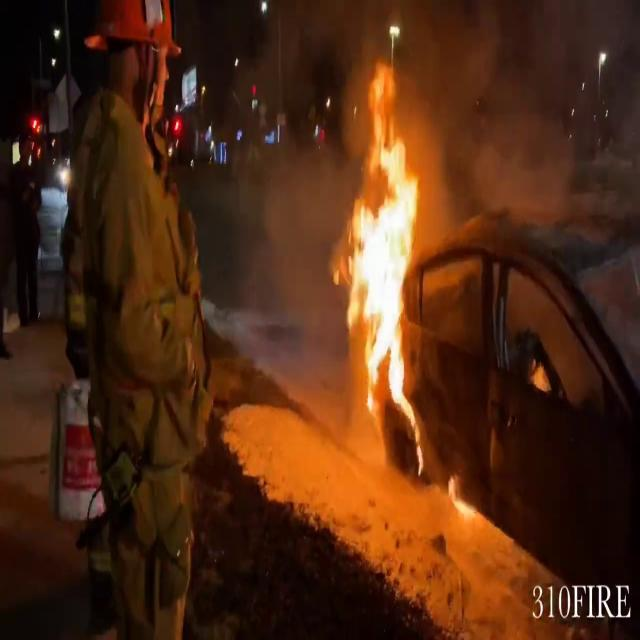Fire: (333, 61, 438, 459)
Smoke: (423, 0, 640, 223), (252, 2, 354, 378)
